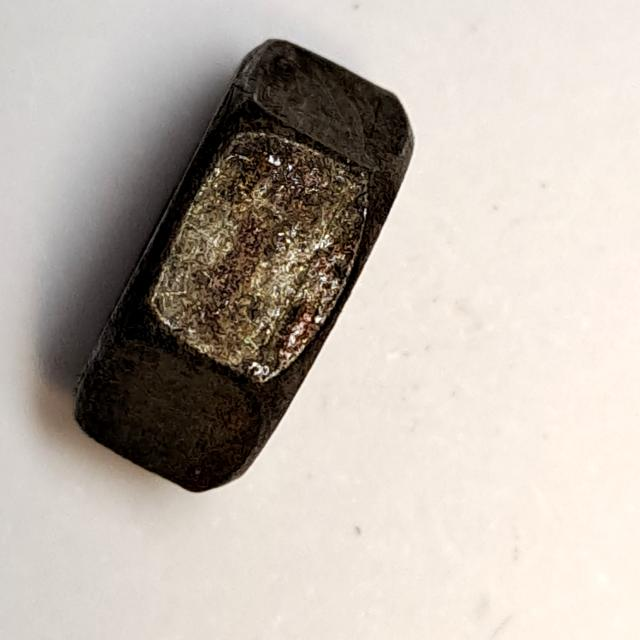Side_Rust: (55, 30, 433, 507)
